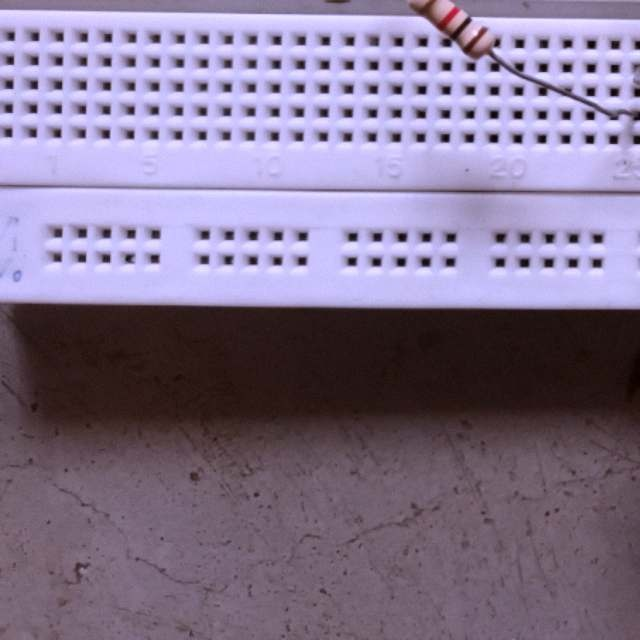resistor: (404, 0, 496, 60)
